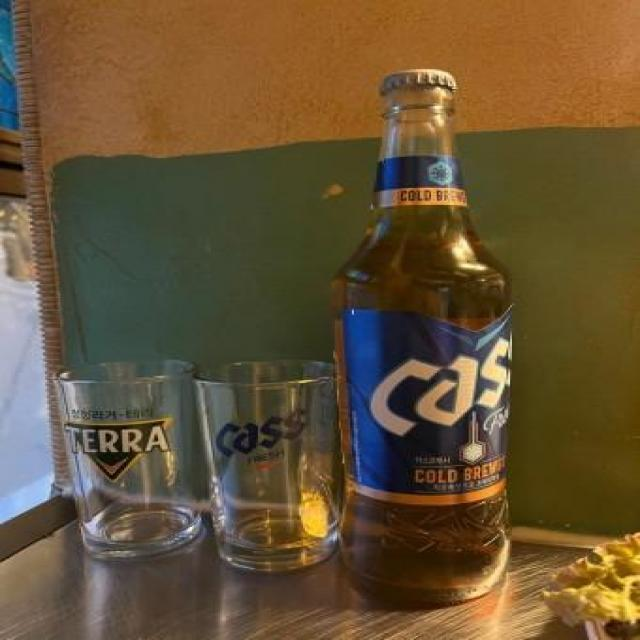beer-bottle: (327, 64, 536, 618)
